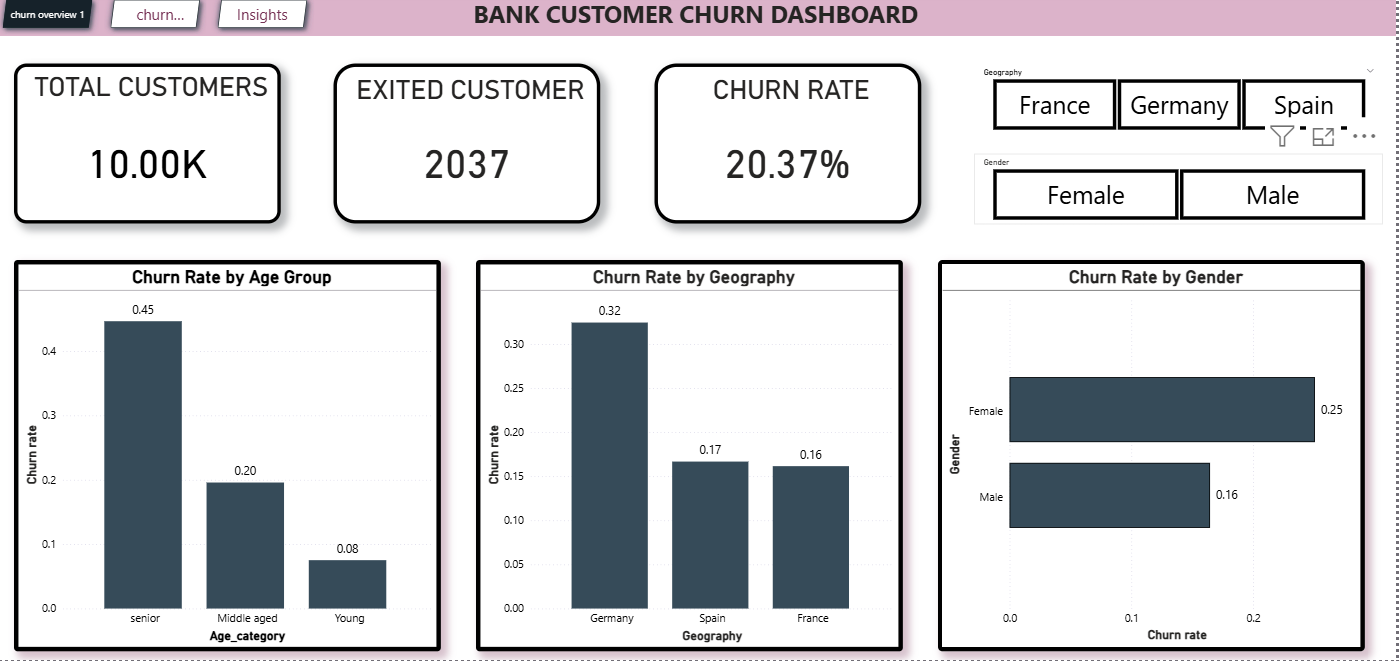

What the dashboard file says about the page in this screenshot:
{"tool":"powerbi","page":{"name":"churn overview 1","canvas":[1891,900],"ordinal":0},"visuals":[{"type":"card","title":"TOTAL CUSTOMERS","fields":{"Values":["CountNonNull(Churn_Modelling cleaning.CustomerId)"]},"box":[24,96,360,216],"z":0},{"type":"card","title":"EXITED CUSTOMER ","fields":{"Values":["Sum(Churn_Modelling cleaning.Exited)"]},"box":[456,96,360,216],"z":1000},{"type":"card","title":"CHURN RATE","fields":{"Values":["Churn_Modelling cleaning.Churn rate"]},"box":[888,96,360,216],"z":2000},{"type":"clusteredColumnChart","title":"Churn Rate by Age Group","fields":{"Category":["Churn_Modelling cleaning.Age_category"],"Y":["Churn_Modelling cleaning.Churn rate"]},"box":[24,360,576,528],"z":3000},{"type":"textbox","box":[-5,0,1896,58],"z":4000},{"type":"slicer","fields":{"Values":["Churn_Modelling cleaning.Geography"]},"box":[1320,96,552,96],"z":5000},{"type":"clusteredBarChart","title":"Churn Rate by Gender","fields":{"Category":["Churn_Modelling cleaning.Gender"],"Y":["Churn_Modelling cleaning.Churn rate"]},"box":[1272,360,576,528],"z":6000},{"type":"slicer","fields":{"Values":["Churn_Modelling cleaning.Gender"]},"box":[1320,216,552,96],"z":7000},{"type":"clusteredColumnChart","title":"Churn Rate by Geography","fields":{"Category":["Churn_Modelling cleaning.Geography"],"Y":["Churn_Modelling cleaning.Churn rate"]},"box":[648,360,576,528],"z":8000},{"type":"pageNavigator","box":[0,0,430,56],"z":10000}]}

Visuals, with their boxes on the page's 1891x900 design canvas (x1, y1, x2, y2). These are canvas units, not pixel positions in the 1399x661 screenshot, which may show the page scaled, cropped or inside an application window:
"TOTAL CUSTOMERS" card: 24,96,384,312
"EXITED CUSTOMER " card: 456,96,816,312
"CHURN RATE" card: 888,96,1248,312
"Churn Rate by Age Group" clusteredColumnChart: 24,360,600,888
textbox: -5,0,1891,58
slicer - Churn_Modelling cleaning.Geography: 1320,96,1872,192
"Churn Rate by Gender" clusteredBarChart: 1272,360,1848,888
slicer - Churn_Modelling cleaning.Gender: 1320,216,1872,312
"Churn Rate by Geography" clusteredColumnChart: 648,360,1224,888
pageNavigator: 0,0,430,56
